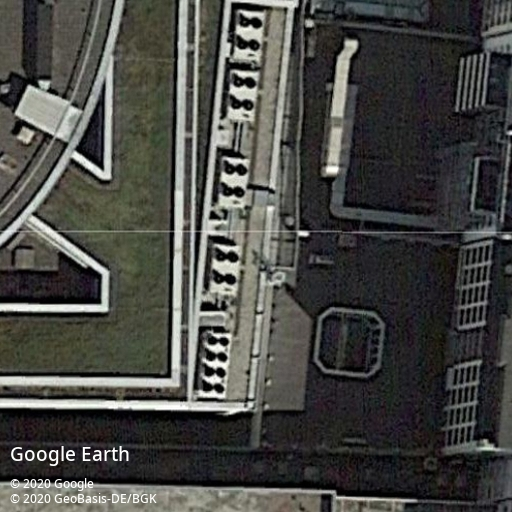Chiller: (197, 330, 233, 396), (226, 68, 260, 121), (217, 155, 250, 209), (233, 9, 267, 61), (210, 244, 242, 291)
